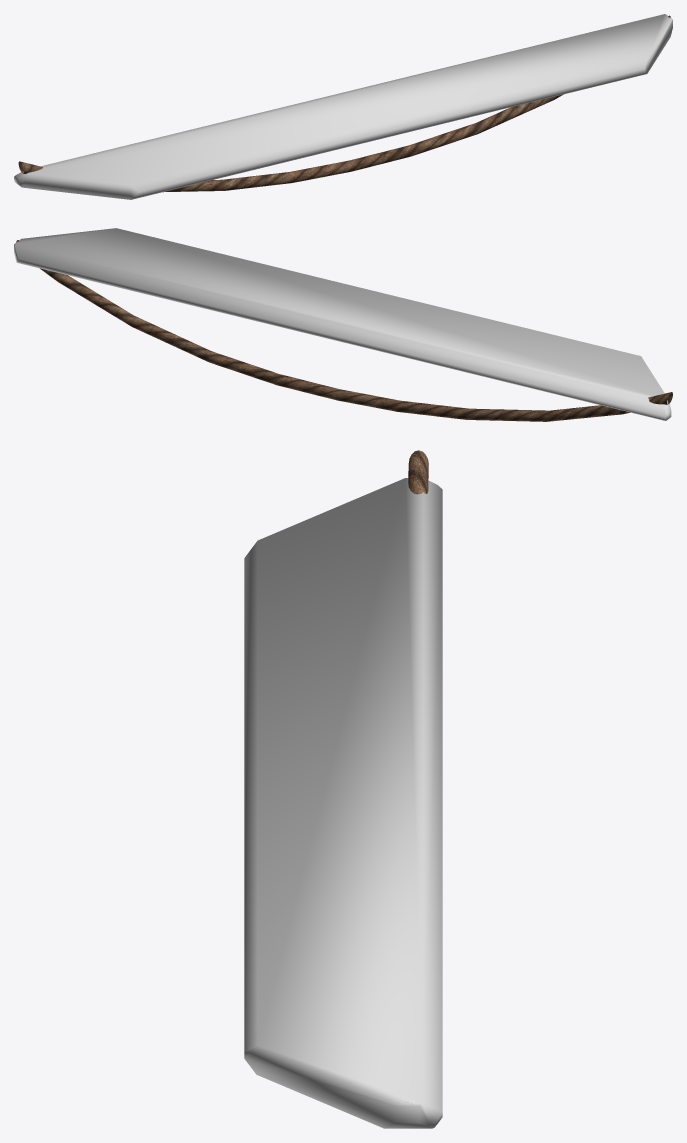
File: SM_Rope_C.fbx
The picture shows the model from 3 angles, top to bottom: view 1: azimuth 30°, elevation 25°; view 2: azimuth 150°, elevation 25°; view 3: azimuth 270°, elevation 25°; orthographic projection. The views are drawn at different scales.
Parts seen in each view (by area): view 1: SM_Rope_C_ConvexHulls, SM_Rope_C; view 2: SM_Rope_C_ConvexHulls, SM_Rope_C; view 3: SM_Rope_C_ConvexHulls.
Boxes of the visible parts, <box> form: SM_Rope_C_ConvexHulls: <box>14,14,672,199</box>; SM_Rope_C: <box>18,15,670,192</box>; SM_Rope_C_ConvexHulls: <box>14,228,671,420</box>; SM_Rope_C: <box>16,240,672,421</box>; SM_Rope_C_ConvexHulls: <box>244,478,442,1128</box>.
Bounding box in the file's own units: 2.76 × 0.3632 × 0.3652.
